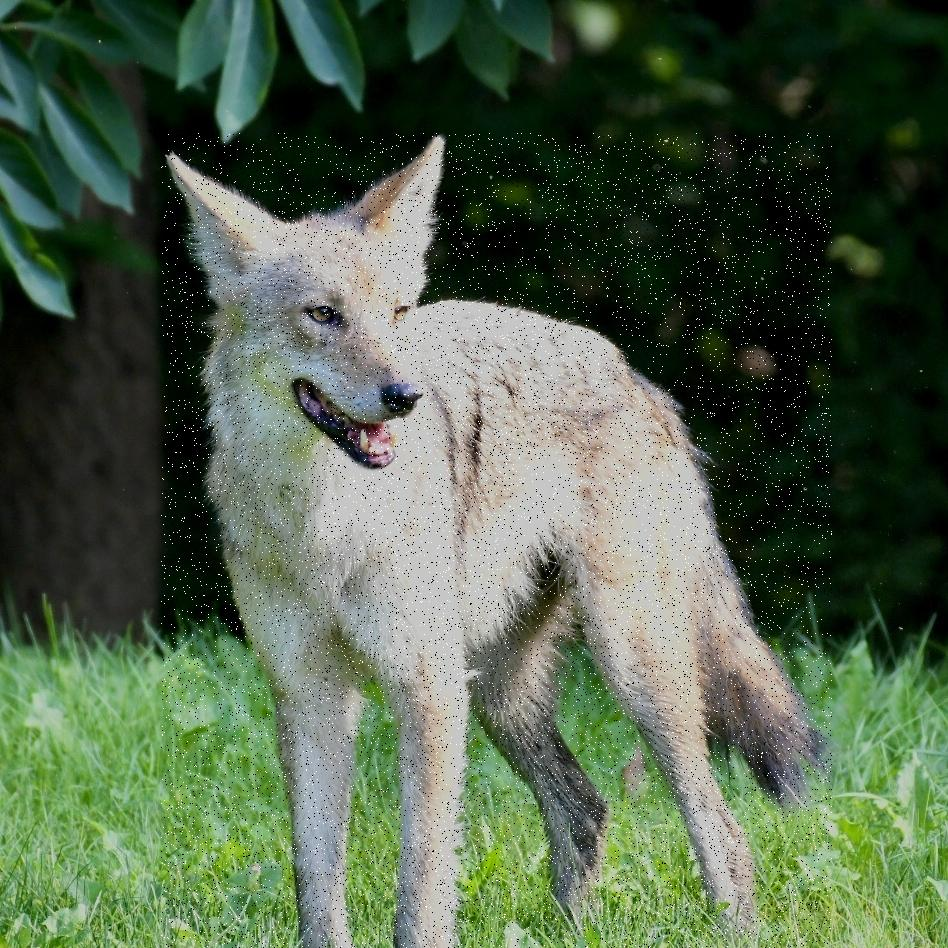Coyote: (161, 133, 832, 948)
